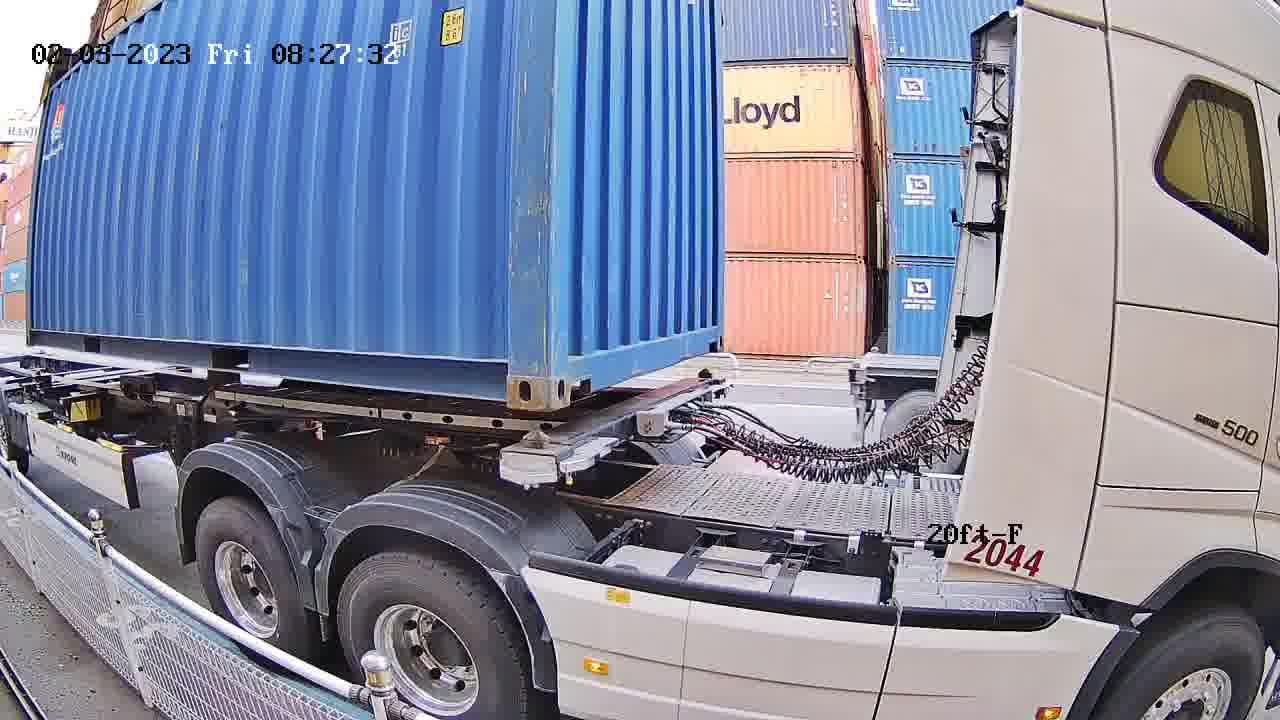Chassis: (502, 376, 720, 482)
Cone: (499, 430, 562, 489)
Hole_L: (547, 331, 598, 411)
Hole_R: (470, 332, 547, 411), (701, 315, 724, 355)
Tire: (338, 556, 526, 717), (197, 502, 301, 665)
